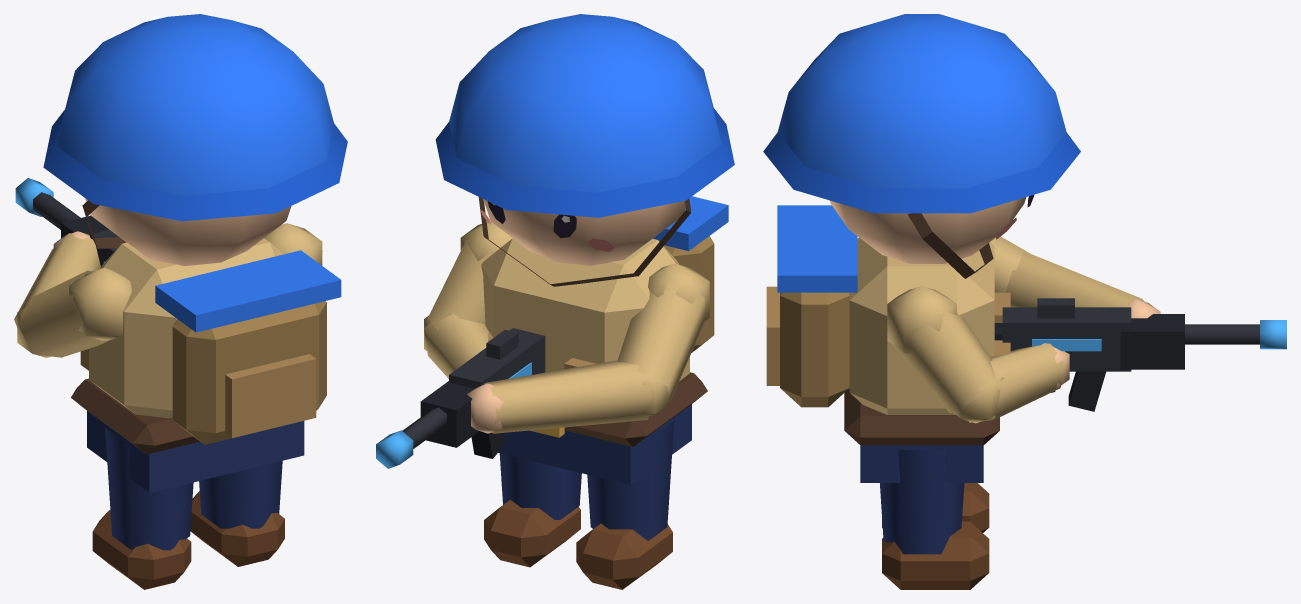
Rendered from soldier_blue.glb.
3 views of the same model, side by side, from view 1: azimuth 30°, elevation 25°; view 2: azimuth 150°, elevation 25°; view 3: azimuth 270°, elevation 25° (orthographic).
Visible parts, largest first — view 1: body, leg_L, leg_R; view 2: body, leg_L, leg_R; view 3: body, leg_R, leg_L.
Part boxes in pixels (bbox=[...]): body: bbox=[14, 14, 347, 492]; leg_L: bbox=[92, 427, 193, 589]; leg_R: bbox=[190, 461, 284, 566]; body: bbox=[376, 14, 734, 484]; leg_L: bbox=[576, 420, 674, 589]; leg_R: bbox=[484, 453, 581, 567]; body: bbox=[763, 14, 1286, 482]; leg_R: bbox=[880, 449, 989, 589]; leg_L: bbox=[882, 483, 989, 532].
Size of the model in its own units: 0.5693 by 1.1 by 0.9764.
